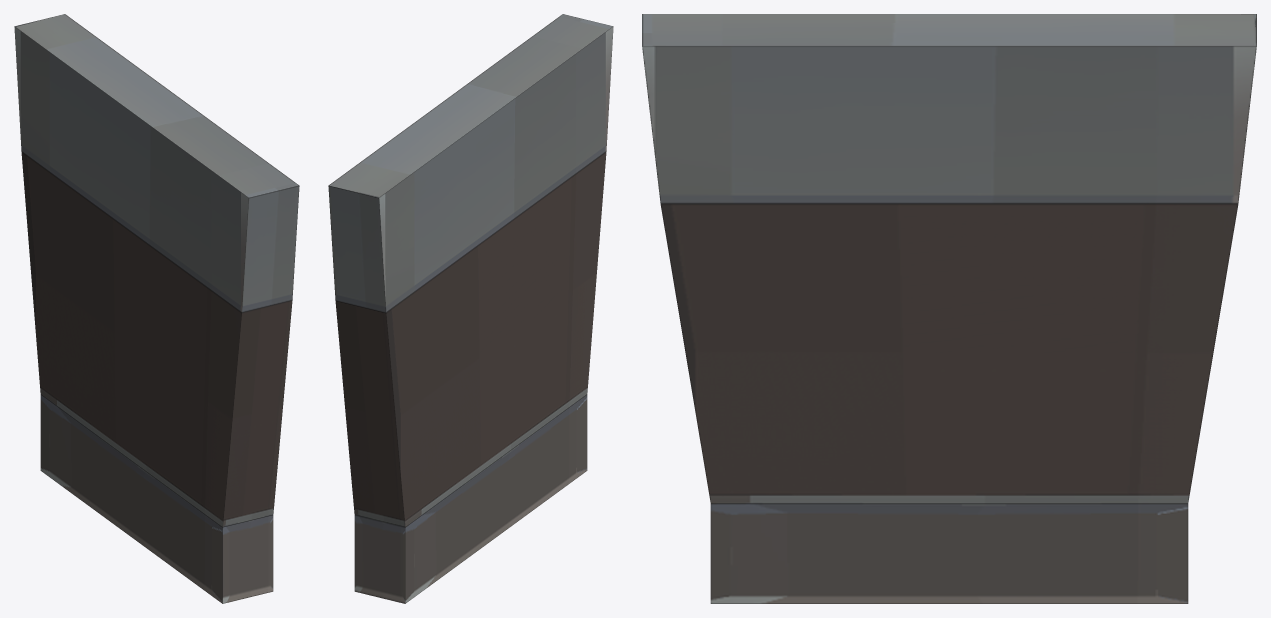
Rendered from Booster 1.fbx.
3 views of the same model, side by side, from view 1: azimuth 30°, elevation 25°; view 2: azimuth 150°, elevation 25°; view 3: azimuth 270°, elevation 25° (orthographic). The views are drawn at different scales.
Parts seen in each view (by area): view 1: Booster 1; view 2: Booster 1; view 3: Booster 1.
Part boxes in pixels (<box>): Booster 1: <box>14,14,299,603</box>; Booster 1: <box>328,14,613,603</box>; Booster 1: <box>642,14,1256,603</box>.
Bounding box in the file's own units: 0.2906 × 2.33 × 2.33.
